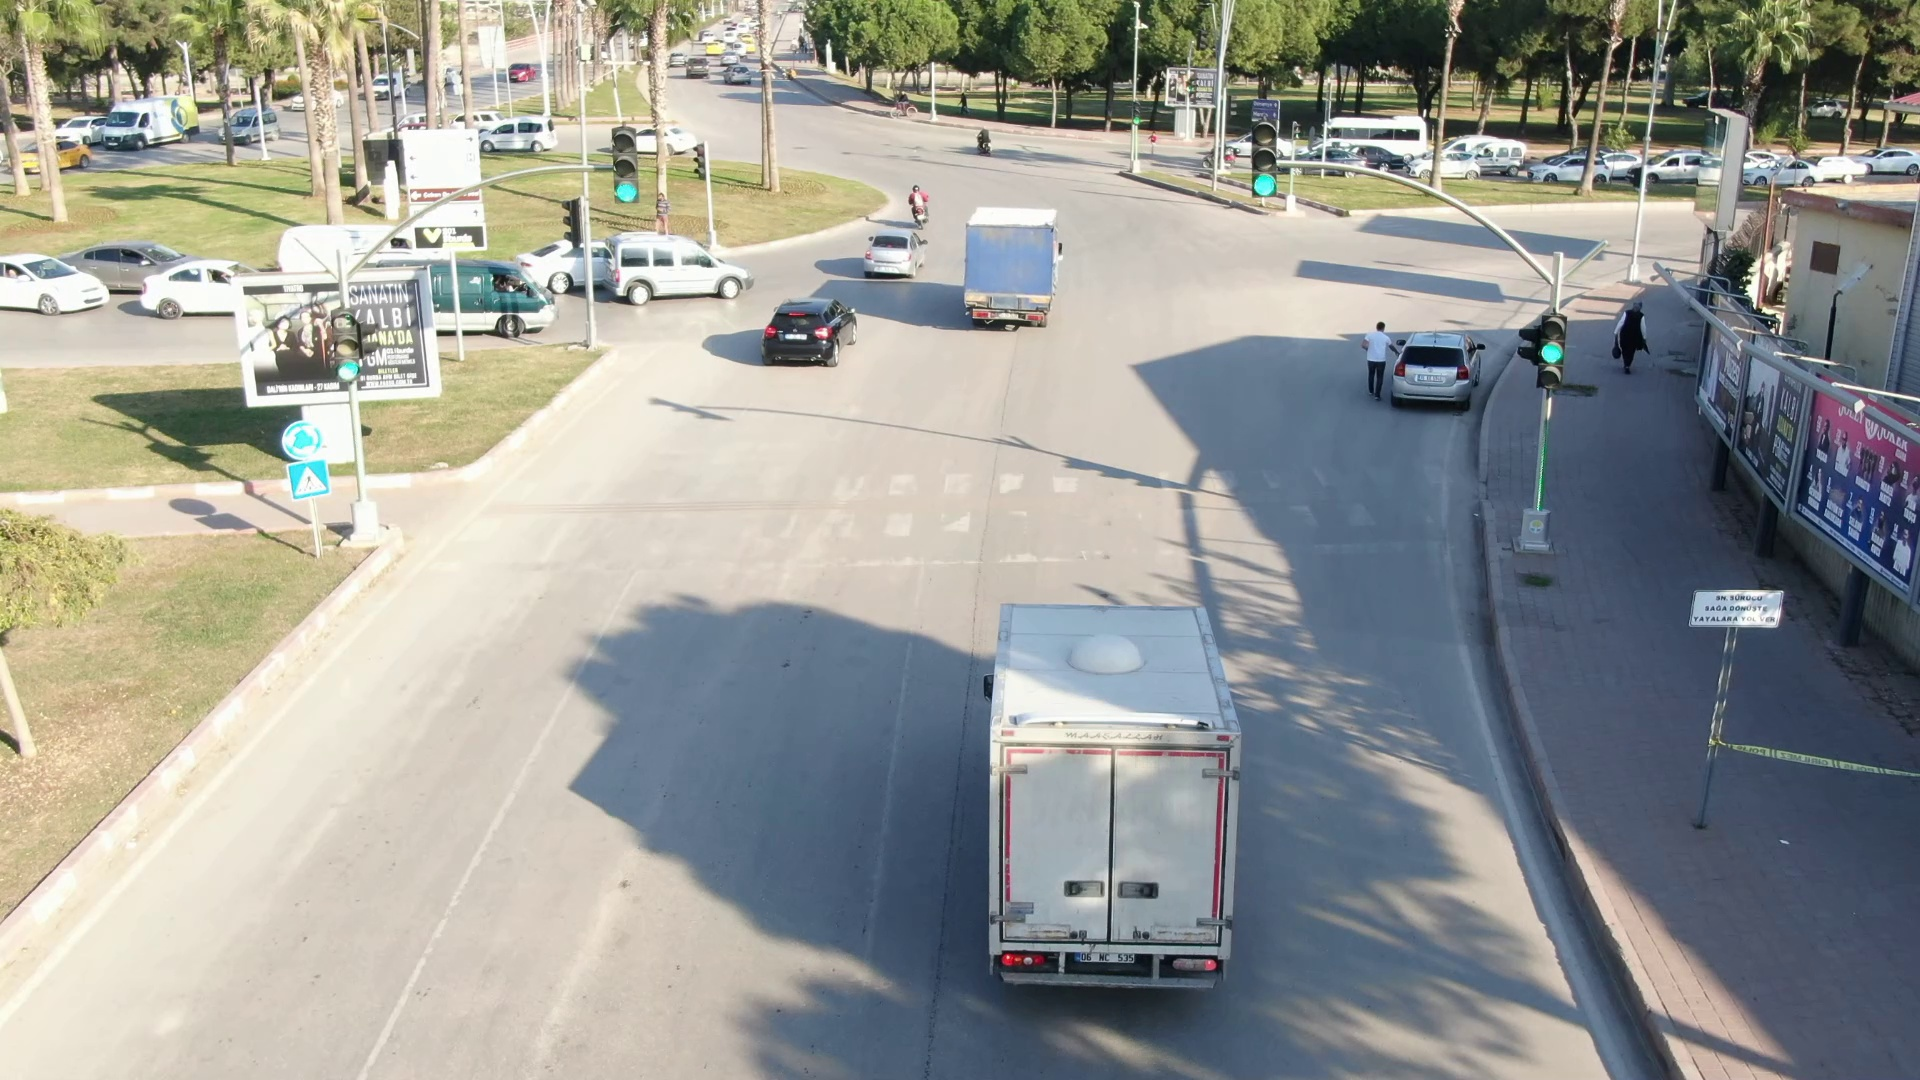car: (944, 198, 1083, 350), (602, 221, 762, 313), (1385, 318, 1490, 411), (759, 291, 867, 377), (1, 242, 110, 315), (96, 93, 208, 151), (853, 223, 932, 287), (1523, 149, 1616, 191), (481, 113, 562, 160)
person: (1604, 295, 1657, 378), (1352, 317, 1393, 401)
